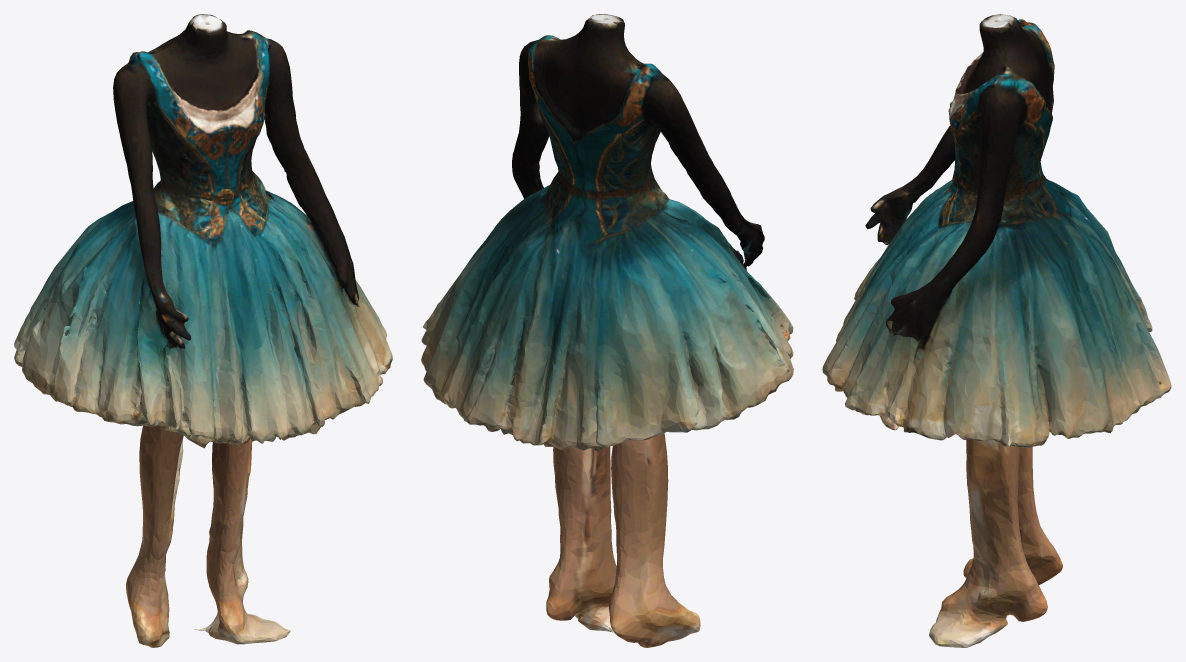
Rendered from Dress-One.obj.
The picture shows the model from 3 angles, left to right: view 1: azimuth 30°, elevation 25°; view 2: azimuth 150°, elevation 25°; view 3: azimuth 270°, elevation 25°; orthographic projection.
Parts seen in each view (by area): view 1: model_mesh; view 2: model_mesh; view 3: model_mesh.
Part boxes in pixels (box(x1,y1,x2,y2)): model_mesh: box(14, 14, 392, 647); model_mesh: box(421, 14, 793, 647); model_mesh: box(822, 14, 1171, 647).
Bounding box in the file's own units: 0.589 × 1.01 × 0.5248.
